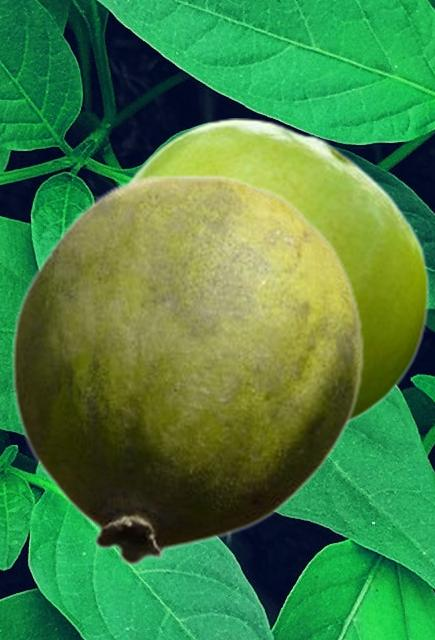guava: (10, 173, 364, 565), (126, 118, 429, 425)
